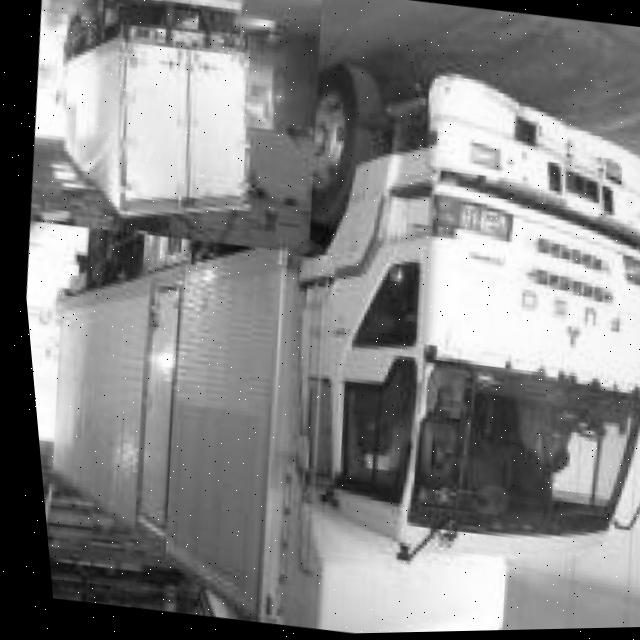truck: (199, 44, 640, 619), (34, 1, 277, 241)
